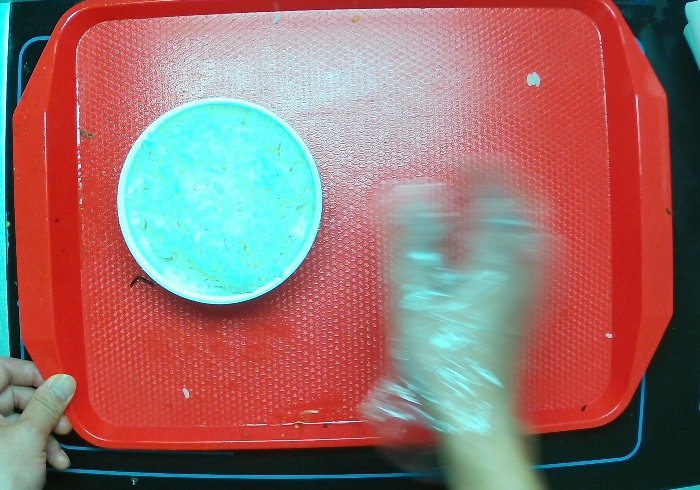YKMZ-Fan_Wan: (117, 92, 324, 306)
